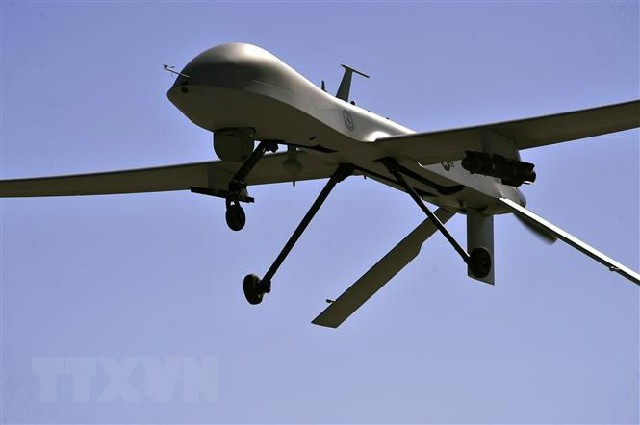maybay_khongnguoilai: (13, 38, 632, 326)
